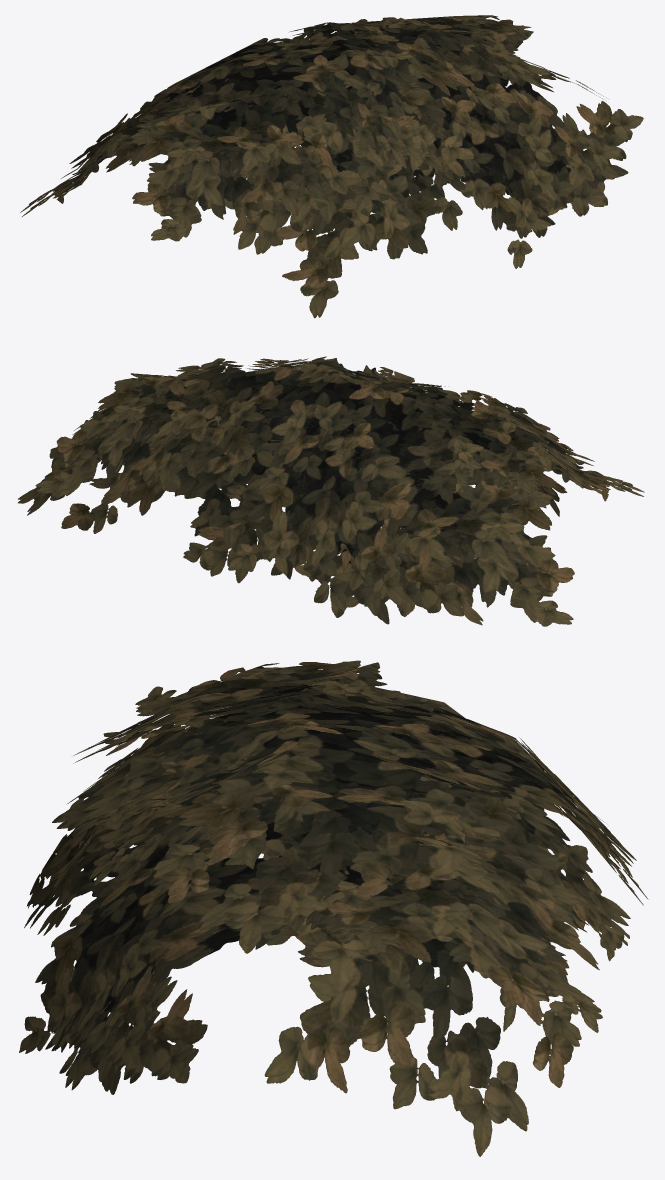
The model's file is Dream_Bush02.FBX.
3 renders of one model, top to bottom at view 1: azimuth 30°, elevation 25°; view 2: azimuth 150°, elevation 25°; view 3: azimuth 270°, elevation 25°, orthographic. The views are drawn at different scales.
Visible parts, largest first — view 1: Dream_Bush02; view 2: Dream_Bush02; view 3: Dream_Bush02.
Part boxes in pixels (bbox=[...]): Dream_Bush02: bbox=[20, 15, 643, 318]; Dream_Bush02: bbox=[18, 356, 644, 626]; Dream_Bush02: bbox=[19, 660, 648, 1156].
Size of the model in its own units: 4 by 1.23 by 2.6.
